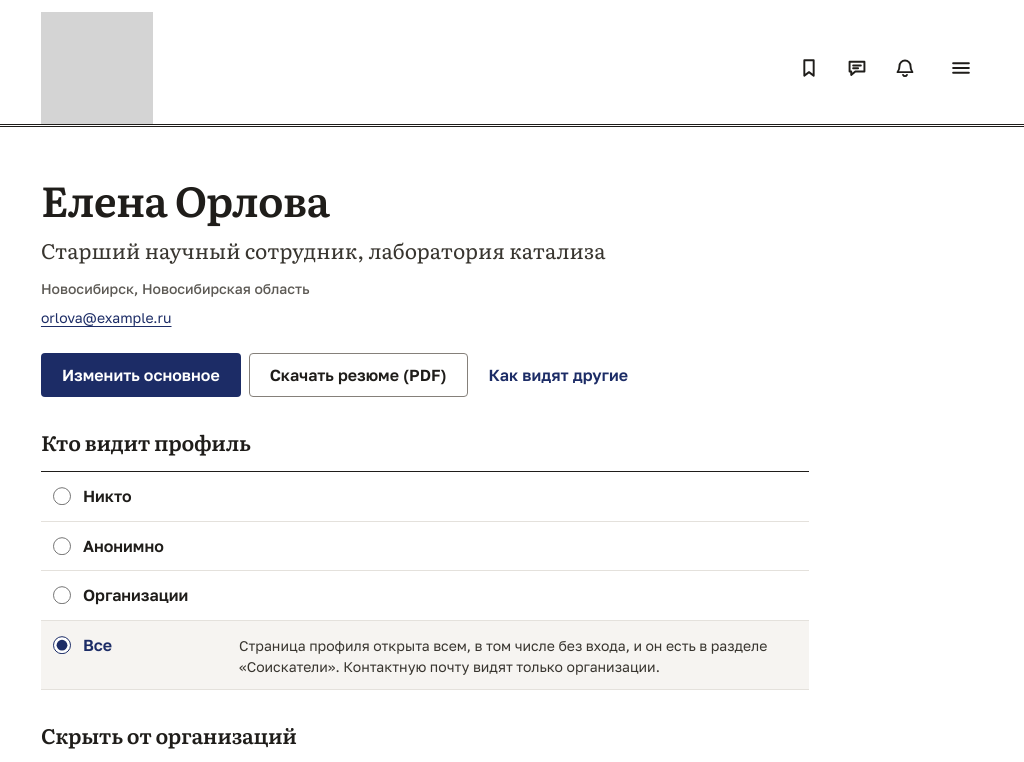
it: privacy panel › saves the chosen mode at once and says so
Expected: the 4th radio button named "Все" is checked, [53, 636, 71, 654]
Click the 3rd radio button named "Организации" at (62, 596), box [53, 586, 71, 604]
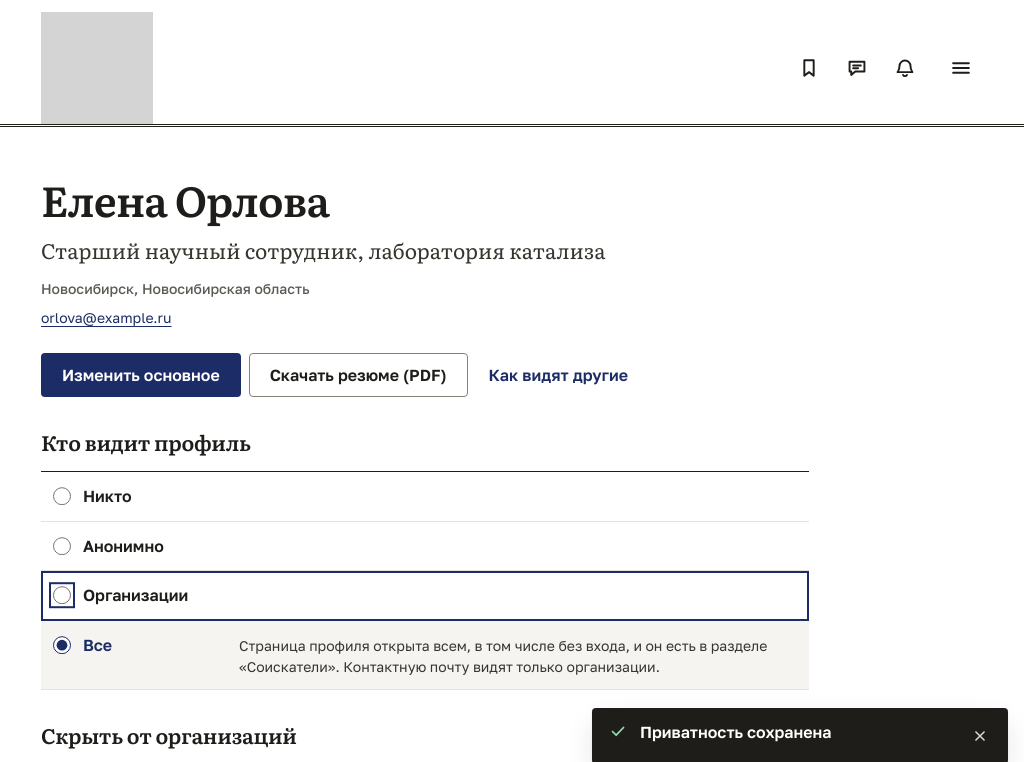
Expected: the text "Приватность сохранена" is shown, [640, 722, 832, 742]
